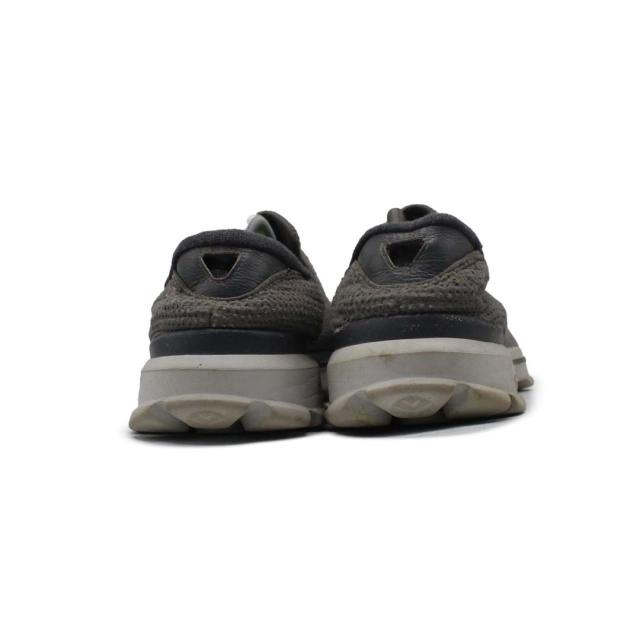heel: (341, 200, 494, 336), (152, 221, 306, 354)
midsole: (127, 337, 527, 435)
